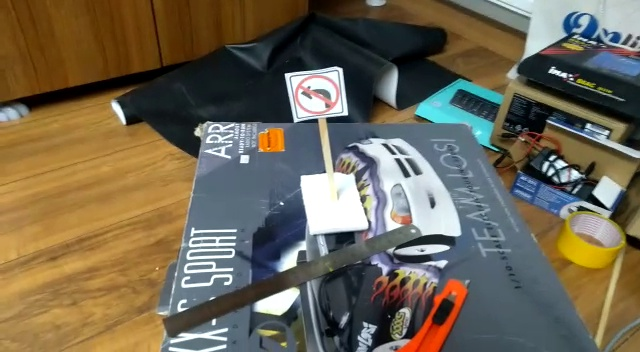sola_donulmez: (293, 70, 341, 118)
